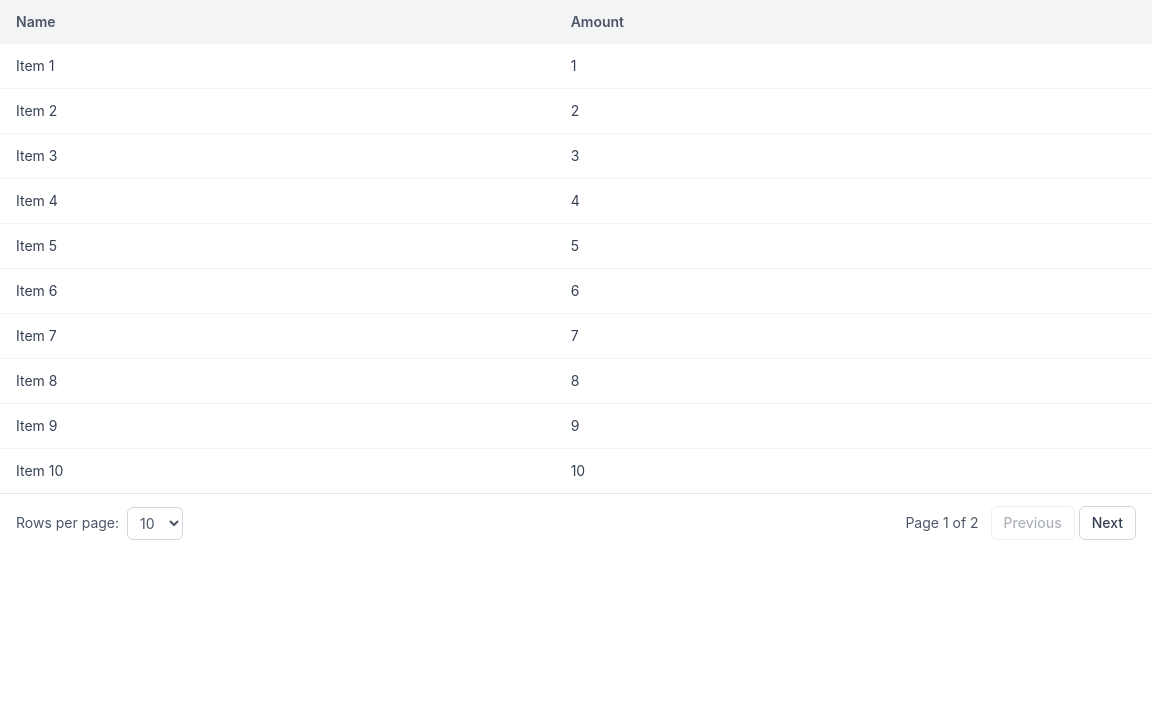
DashboardTable › should move to the previous page
Click the button "Next": (1107, 523) x1=1079 y1=506 x2=1136 y2=540
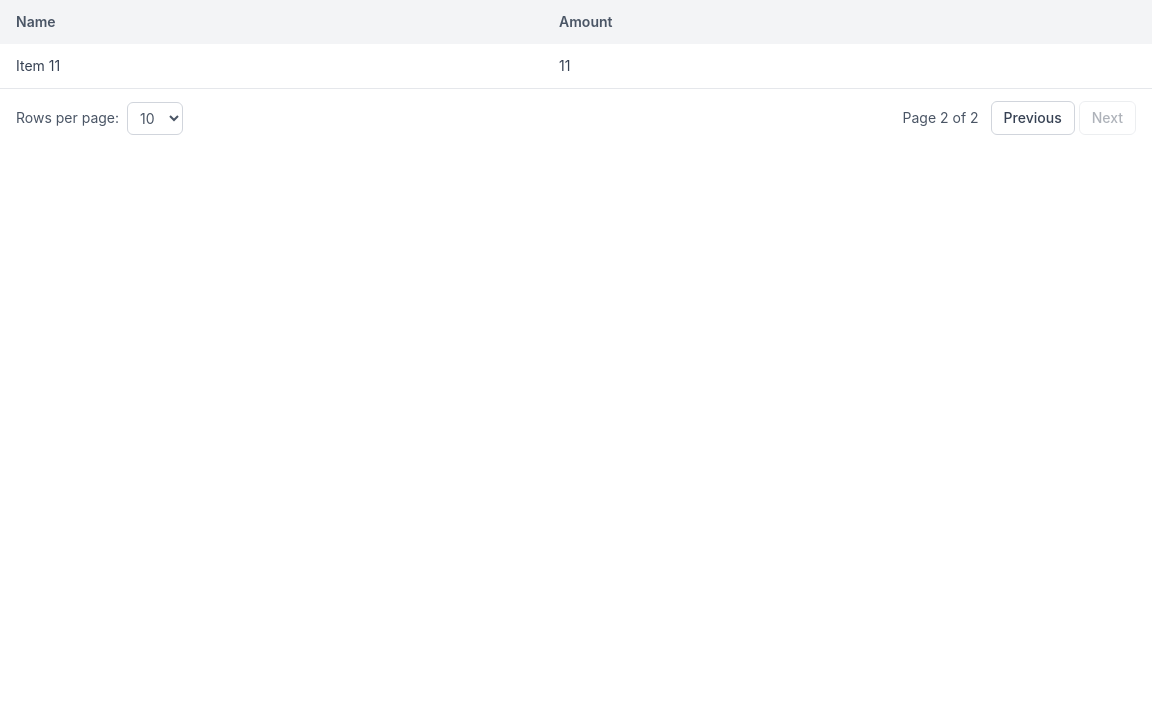
Click the button "Previous": (1033, 118) x1=991 y1=101 x2=1075 y2=135
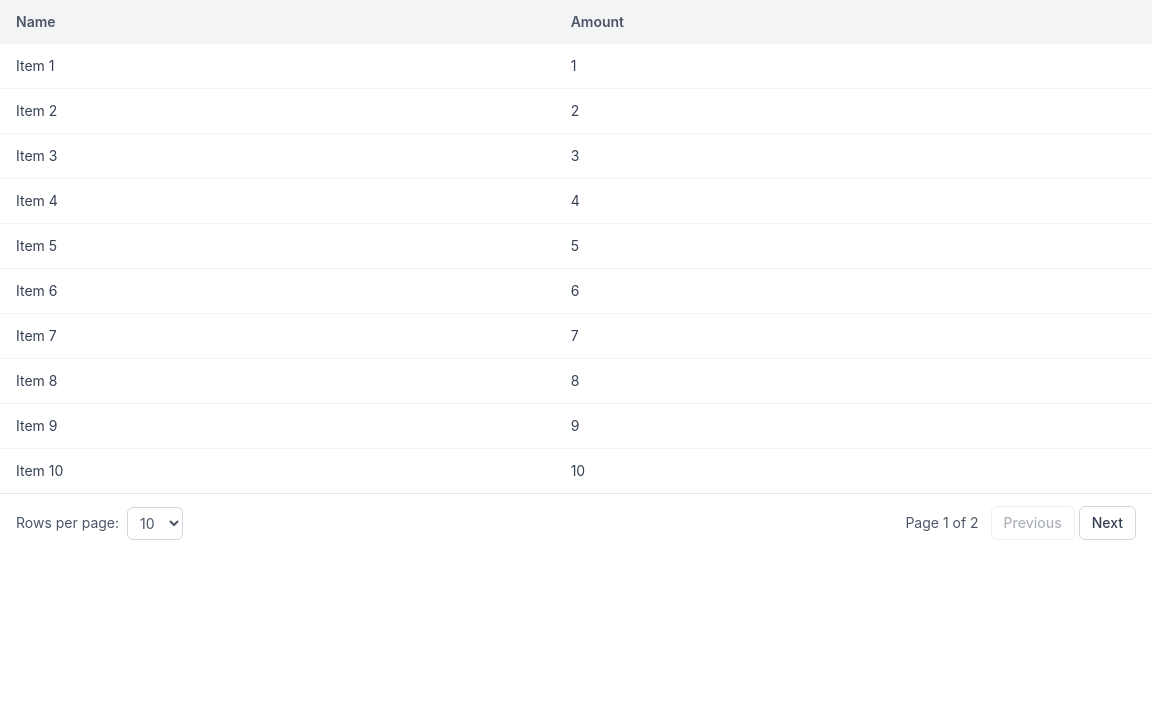
Expected: the text "Page 1 of 2" is shown, x1=905 y1=513 x2=979 y2=533
Expected: the text "Item 1" is shown, x1=0 y1=44 x2=555 y2=88
